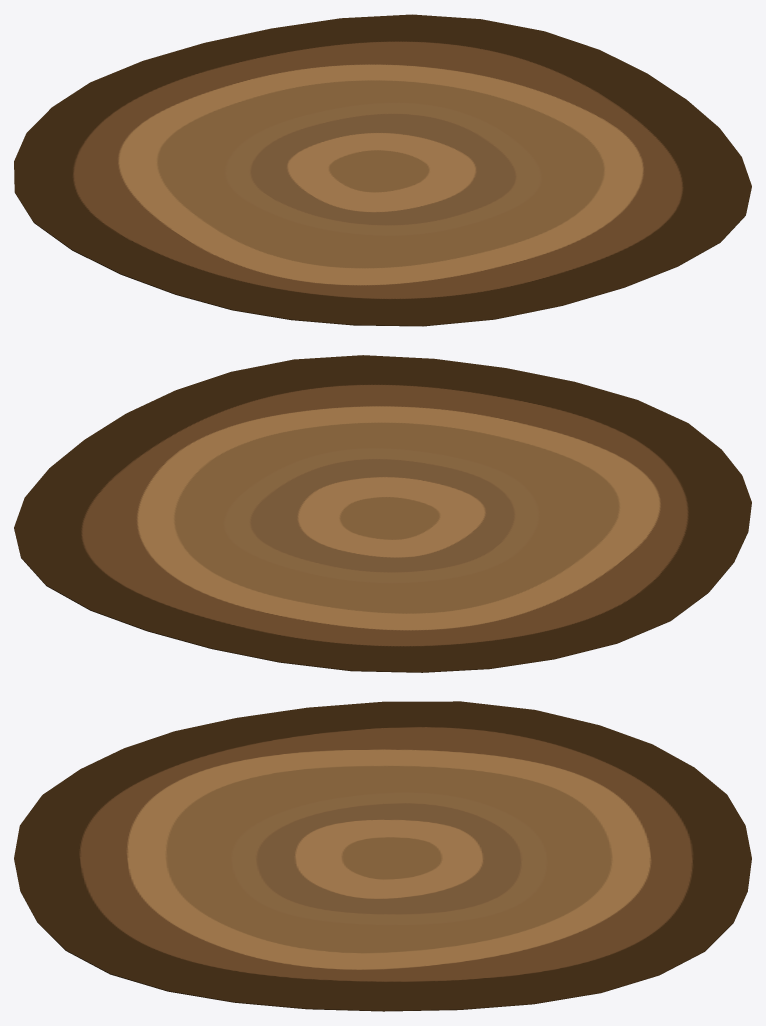
The model's file is RACING_MAT.fbx.
3 views of the same model, one above another, from view 1: azimuth 30°, elevation 25°; view 2: azimuth 150°, elevation 25°; view 3: azimuth 270°, elevation 25° (orthographic). The views are drawn at different scales.
Parts seen in each view (by area): view 1: RACING_MAT; view 2: RACING_MAT; view 3: RACING_MAT.
Part boxes in pixels (x1,y1,x2,y2): RACING_MAT: (14, 14, 751, 326); RACING_MAT: (14, 355, 751, 672); RACING_MAT: (14, 701, 751, 1011).
Size of the model in its own units: 0.4052 by 0.0005 by 0.4087.
